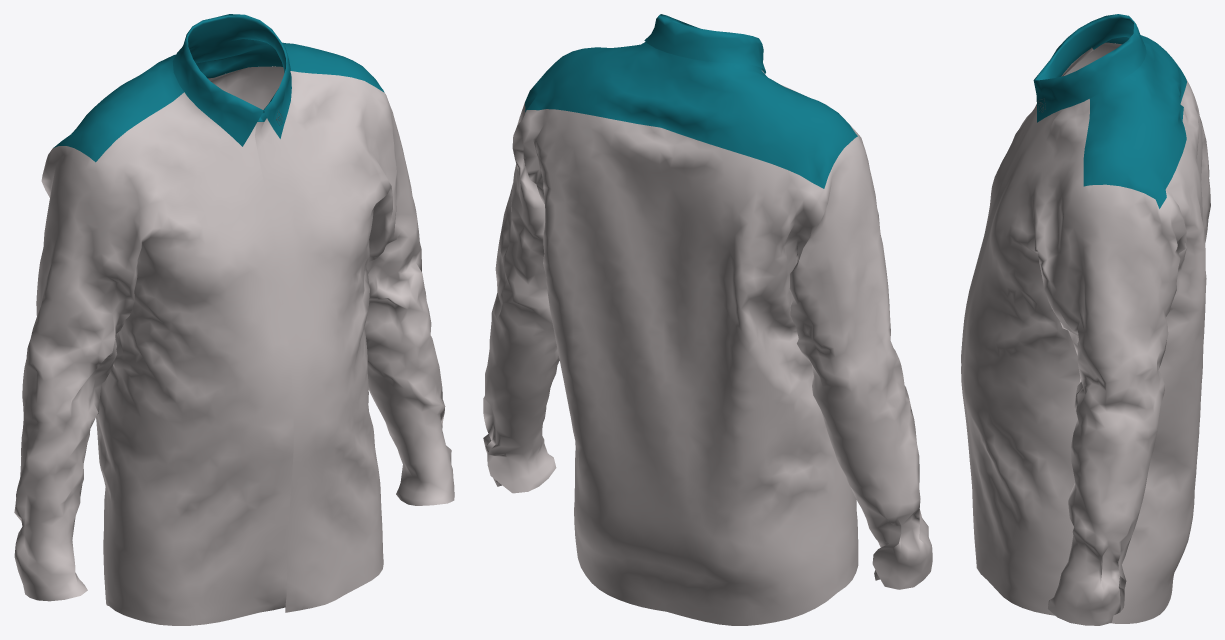
3 views of the same model, side by side, from view 1: azimuth 30°, elevation 25°; view 2: azimuth 150°, elevation 25°; view 3: azimuth 270°, elevation 25° (orthographic). The views are drawn at different scales.
Parts seen in each view (by area): view 1: Object_3, Object_2; view 2: Object_3, Object_2; view 3: Object_3, Object_2.
Part boxes in pixels (bbox=[...]): Object_3: bbox=[14, 66, 454, 625]; Object_2: bbox=[53, 14, 384, 162]; Object_3: bbox=[483, 70, 932, 625]; Object_2: bbox=[525, 14, 857, 188]; Object_3: bbox=[961, 42, 1210, 625]; Object_2: bbox=[1033, 14, 1186, 208].
Size of the model in its own units: 65.52 by 82 by 33.48.
